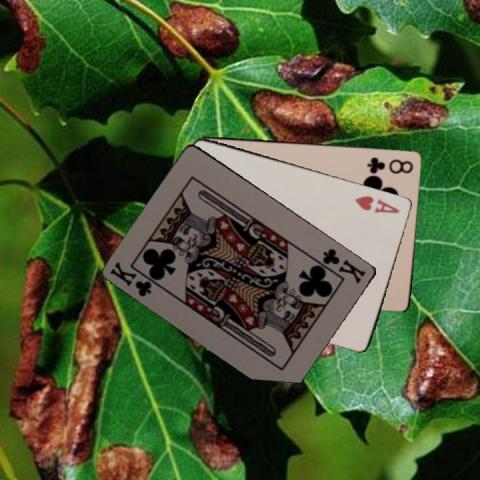8c: (364, 153, 414, 175)
Ah: (352, 192, 401, 215)
Kc: (320, 246, 368, 286), (107, 258, 154, 298)
